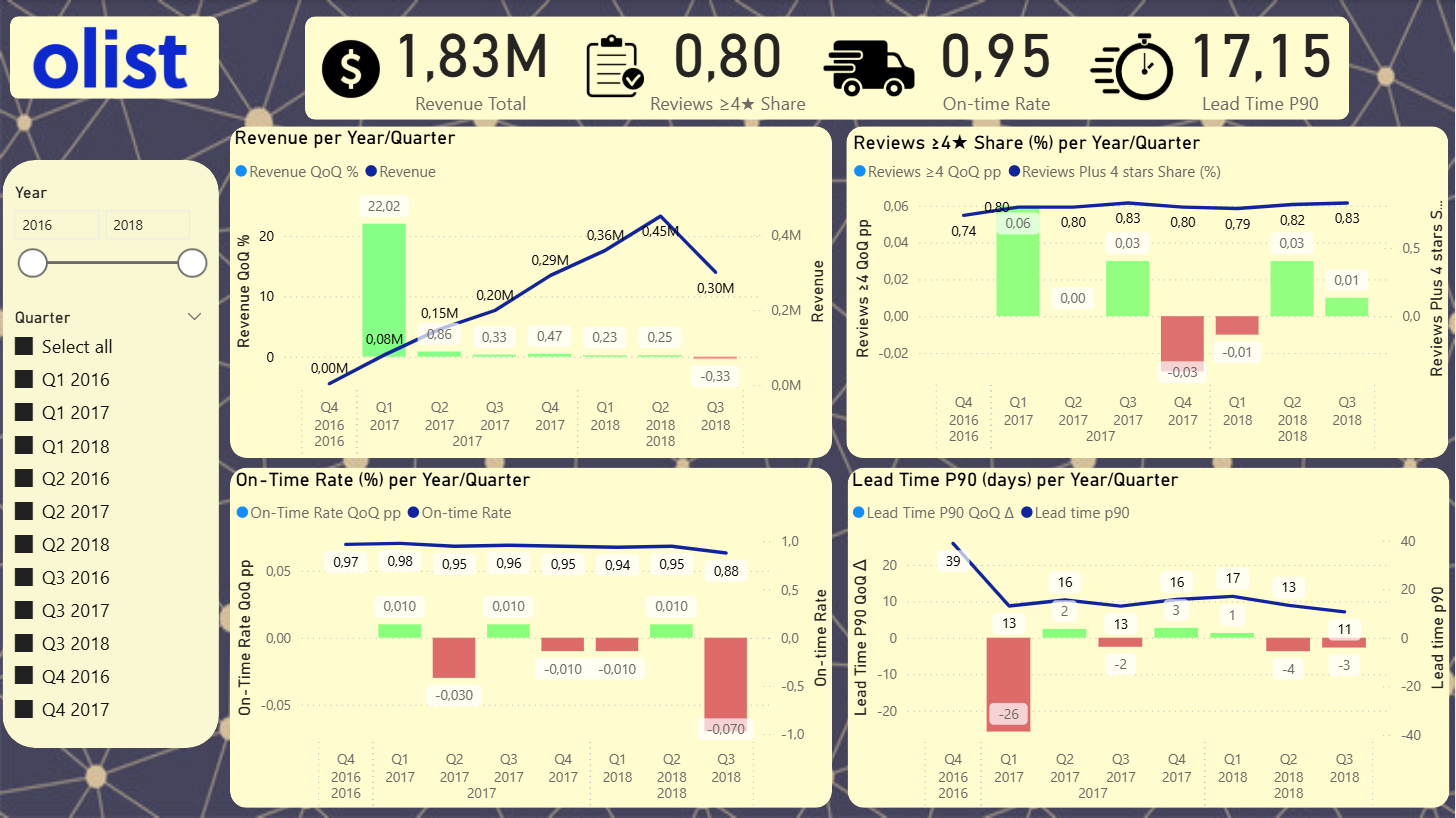

The dashboard page shown, as its layout file describes it:
{"tool":"powerbi","page":{"name":"KPI Overview (Quarterly)","canvas":[1280,720],"ordinal":0},"visuals":[{"type":"shape","box":[2.6,140.5,190.4,517.3],"z":0},{"type":"shape","box":[202.3,111.2,529.6,291.8],"z":1000},{"type":"shape","box":[202.3,410.7,529.6,299.5],"z":2000},{"type":"shape","box":[744.2,111.2,529.6,291.8],"z":3000},{"type":"shape","box":[745.8,410.7,529.6,299.5],"z":4000},{"type":"shape","box":[268.7,13.9,918.7,91.1],"z":5000},{"type":"shape","box":[9.3,13.9,183.7,72.6],"z":6000},{"type":"slicer","fields":{"Values":["Date.Year"]},"box":[0,155.9,189.9,254.8],"z":7000},{"type":"slicer","fields":{"Values":["Date.QuarterLabel"]},"box":[0,265.6,189.9,379.8],"z":8000},{"type":"card","fields":{"Values":["analytics vw_kpi_quarter_sp._Revenue SP"]},"box":[304.2,0,219.3,105],"z":9000},{"type":"card","fields":{"Values":["analytics vw_kpi_quarter_sp._Reviews plus 4 Share"]},"box":[543.5,0,194.5,105],"z":10000},{"type":"card","fields":{"Values":["analytics vw_kpi_quarter_sp._On-time Rate"]},"box":[779.7,0,194.5,105],"z":11000},{"type":"card","fields":{"Values":["analytics vw_kpi_quarter_sp._Lead Time P90"]},"box":[1011.3,0,194.5,105],"z":12000},{"type":"lineClusteredColumnComboChart","title":"Revenue per Year/Quarter","fields":{"Category":["Date.Year","Date.QuarterLabel"],"Y2":["analytics vw_kpi_quarter_sp._Revenue SP"],"Y":["analytics vw_kpi_quarter_sp._Revenue QoQ %"]},"box":[200.7,111.2,531.1,299.5],"z":13000},{"type":"lineClusteredColumnComboChart","title":"Reviews ≥4★ Share (%) per Year/Quarter","fields":{"Category":["Date.Year","Date.QuarterLabel"],"Y2":["analytics vw_kpi_quarter_sp._Reviews plus 4 Share"],"Y":["analytics vw_kpi_quarter_sp._Reviews ≥4 QoQ pp"]},"box":[745.8,111.2,531.1,294.9],"z":14000},{"type":"lineClusteredColumnComboChart","title":"On-Time Rate (%) per Year/Quarter","fields":{"Category":["Date.Year","Date.QuarterLabel"],"Y2":["analytics vw_kpi_quarter_sp._On-time Rate"],"Y":["analytics vw_kpi_quarter_sp._On-Time Rate QoQ pp"]},"box":[202.3,410.7,532.7,308.8],"z":15000},{"type":"lineClusteredColumnComboChart","title":"Lead Time P90 (days) per Year/Quarter","fields":{"Category":["Date.Year","Date.QuarterLabel"],"Y":["analytics vw_kpi_quarter_sp._Lead Time P90 QoQ Δ"],"Y2":["Sum(analytics vw_kpi_quarter_sp.lead_time_p90)"]},"box":[744.2,410.7,532.7,308.8],"z":16000},{"type":"image","box":[0,13.9,193,72.6],"z":17000},{"type":"image","box":[264,23.2,89.6,75.7],"z":17001},{"type":"image","box":[511.1,23.2,60.2,69.5],"z":17002},{"type":"image","box":[718,15.4,92.6,89.6],"z":17003},{"type":"image","box":[948,13.9,95.7,89.6],"z":17004}]}

Visuals, with their boxes in screenshot pixels (x1, y1, x2, y2), scaled from the page's 1280x720 canvas onto the 1456x818 screenshot:
shape: region(3, 160, 220, 747)
shape: region(230, 126, 833, 458)
shape: region(230, 467, 833, 807)
shape: region(847, 126, 1449, 458)
shape: region(848, 467, 1451, 807)
shape: region(306, 16, 1351, 119)
shape: region(11, 16, 220, 98)
slicer - Date.Year: region(0, 177, 216, 467)
slicer - Date.QuarterLabel: region(0, 302, 216, 733)
card - analytics vw_kpi_quarter_sp._Revenue SP: region(346, 0, 595, 119)
card - analytics vw_kpi_quarter_sp._Reviews plus 4 Share: region(618, 0, 839, 119)
card - analytics vw_kpi_quarter_sp._On-time Rate: region(887, 0, 1108, 119)
card - analytics vw_kpi_quarter_sp._Lead Time P90: region(1150, 0, 1372, 119)
"Revenue per Year/Quarter" lineClusteredColumnComboChart: region(228, 126, 832, 467)
"Reviews ≥4★ Share (%) per Year/Quarter" lineClusteredColumnComboChart: region(848, 126, 1452, 461)
"On-Time Rate (%) per Year/Quarter" lineClusteredColumnComboChart: region(230, 467, 836, 817)
"Lead Time P90 (days) per Year/Quarter" lineClusteredColumnComboChart: region(847, 467, 1452, 817)
image: region(0, 16, 220, 98)
image: region(300, 26, 402, 112)
image: region(581, 26, 650, 105)
image: region(817, 17, 922, 119)
image: region(1078, 16, 1187, 118)
